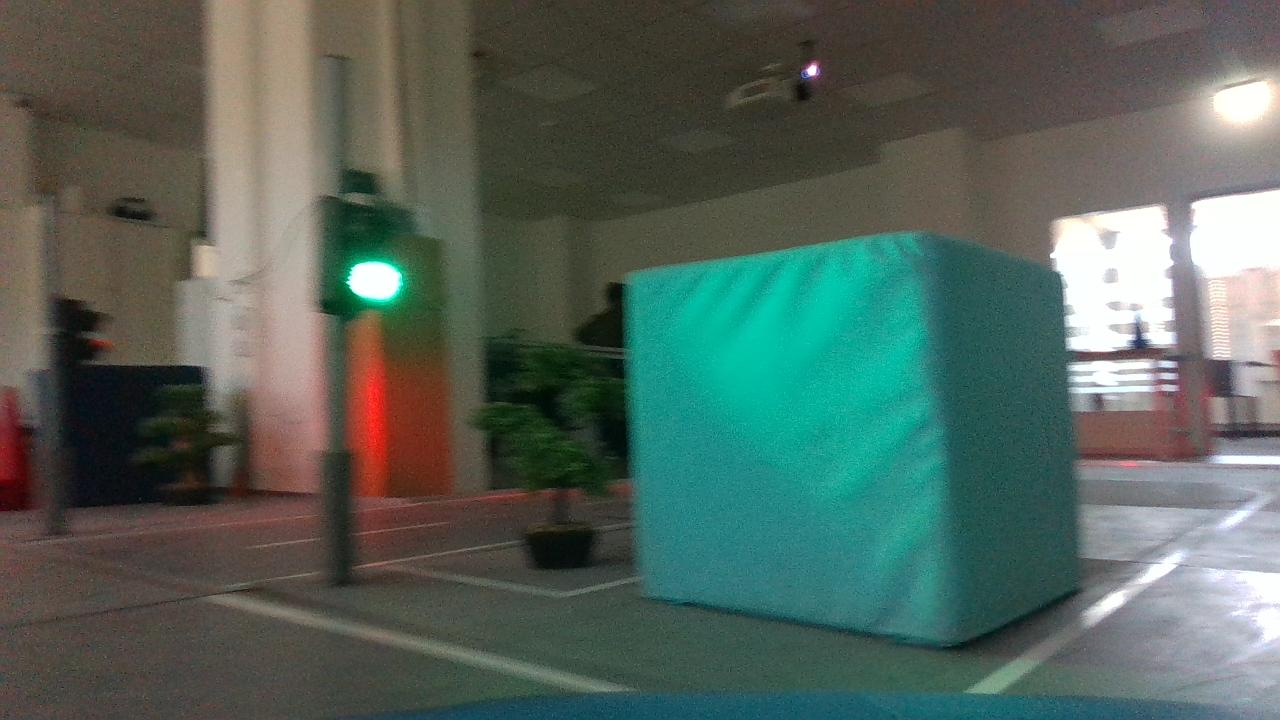traffic_light_green: (287, 179, 408, 336)
